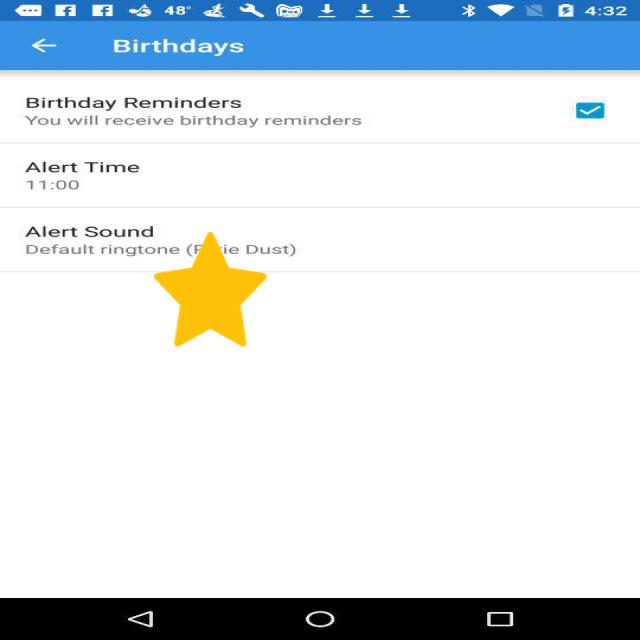forced continuity: (154, 232, 267, 347)
